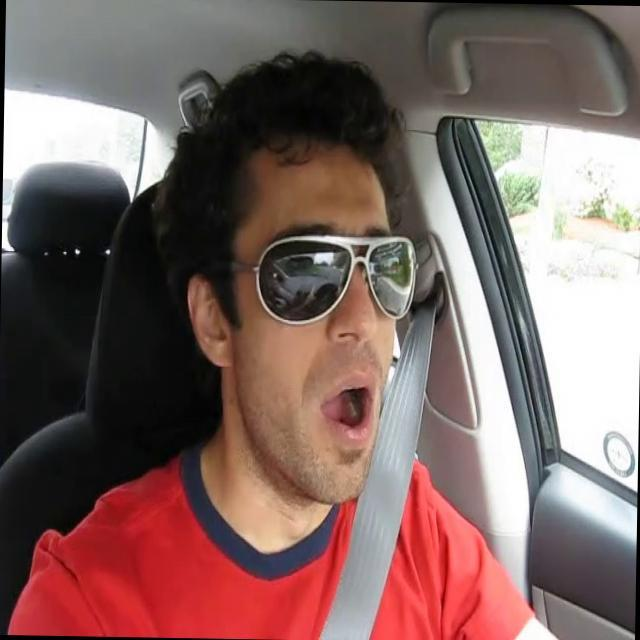Yawning: (316, 370, 378, 453)
